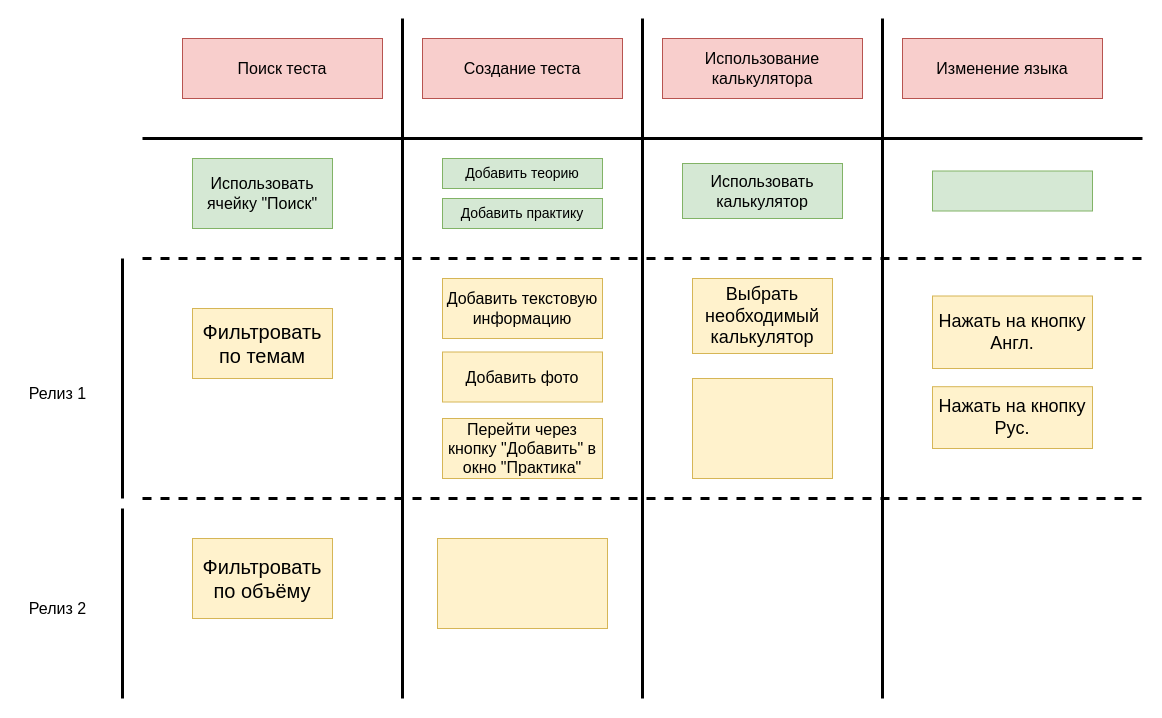
The diagram is 1162 pixels wide and 718 high, and some of its shapes have lost their labels. Each missing label, with the centre of its shape:
Добавить вопрос: (522,583)
Изменить язык: (1012,190)
Использовать калькулятор для решения теста: (762,428)
